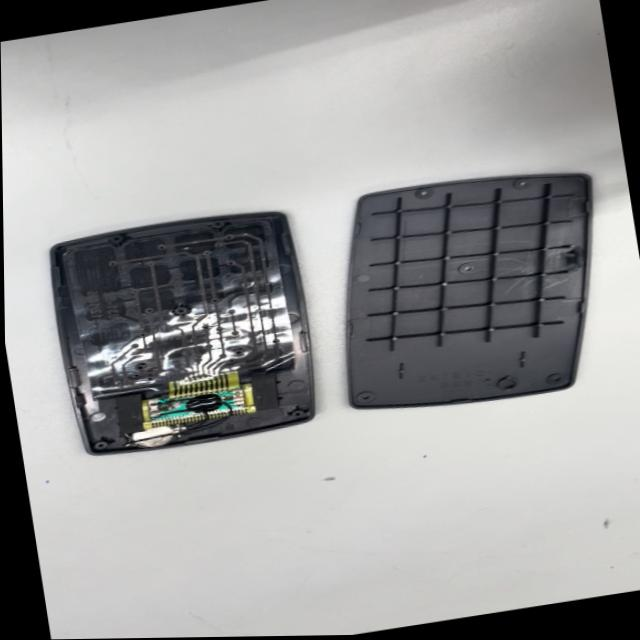back_cover: (309, 154, 625, 423)
front_panel: (42, 200, 331, 471)
